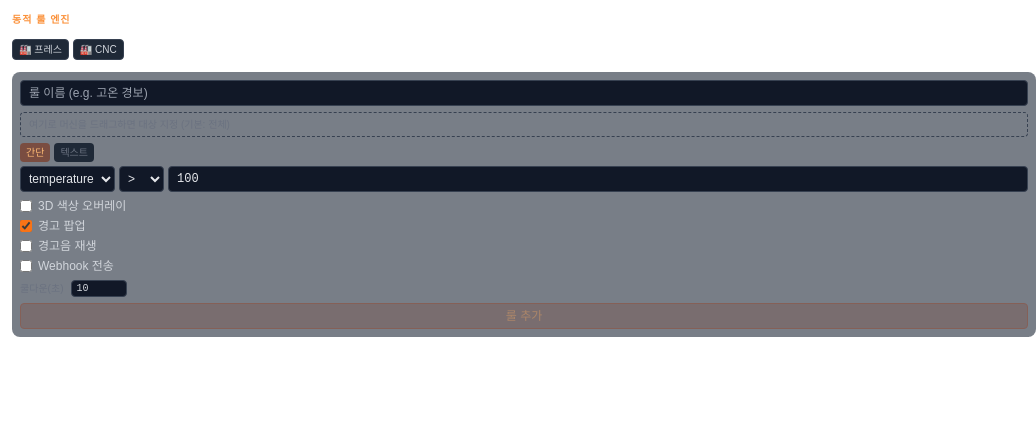
Test: RuleEditorPanel — B: simple condition builder mode › updates the assembled condition string when the operator dropdown changes
Select "<" in the dropdown with test id "rule-simple-op". click: x=142, y=179
box: [119,166,164,192]
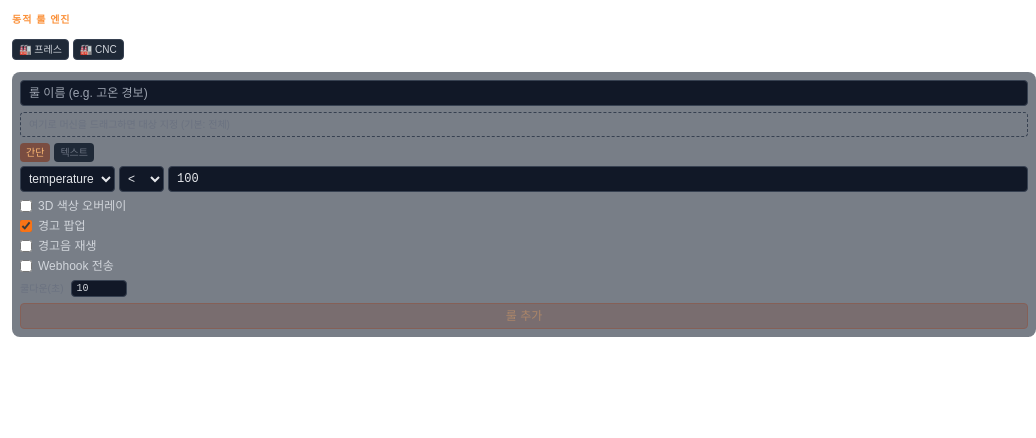
Type "저온 경보" into the field with placeholder "룰 이름 (e.g. 고온 경보)". click: x=524, y=93
box: [20,80,1028,106]
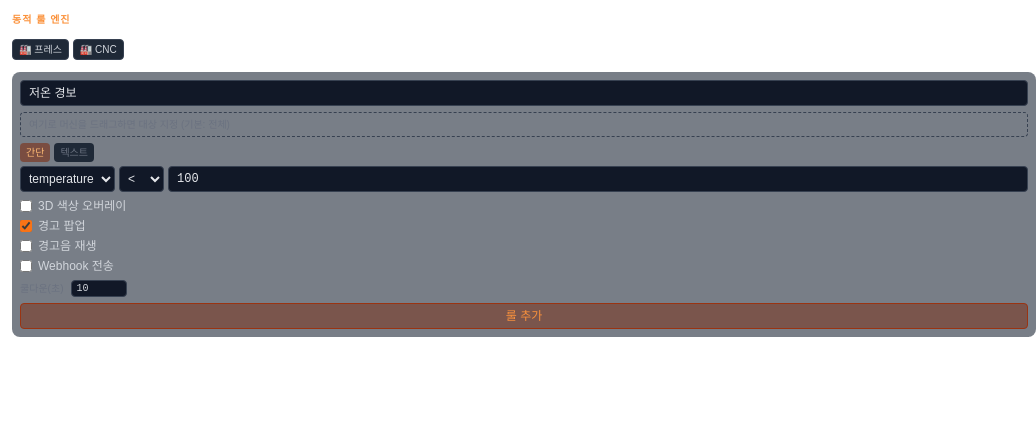
Click the button "룰 추가". click: x=524, y=316
box: [20,303,1028,329]
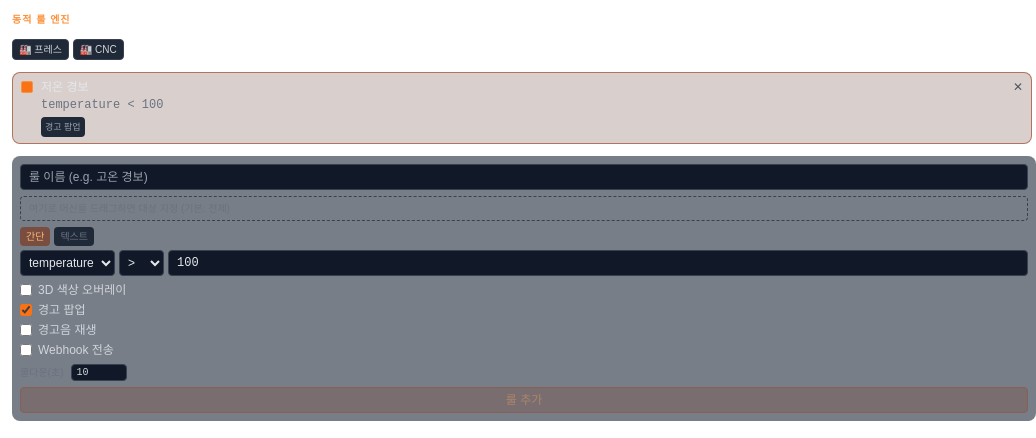
Expected: the text "temperature < 100" is shown, [41,98,163,112]
